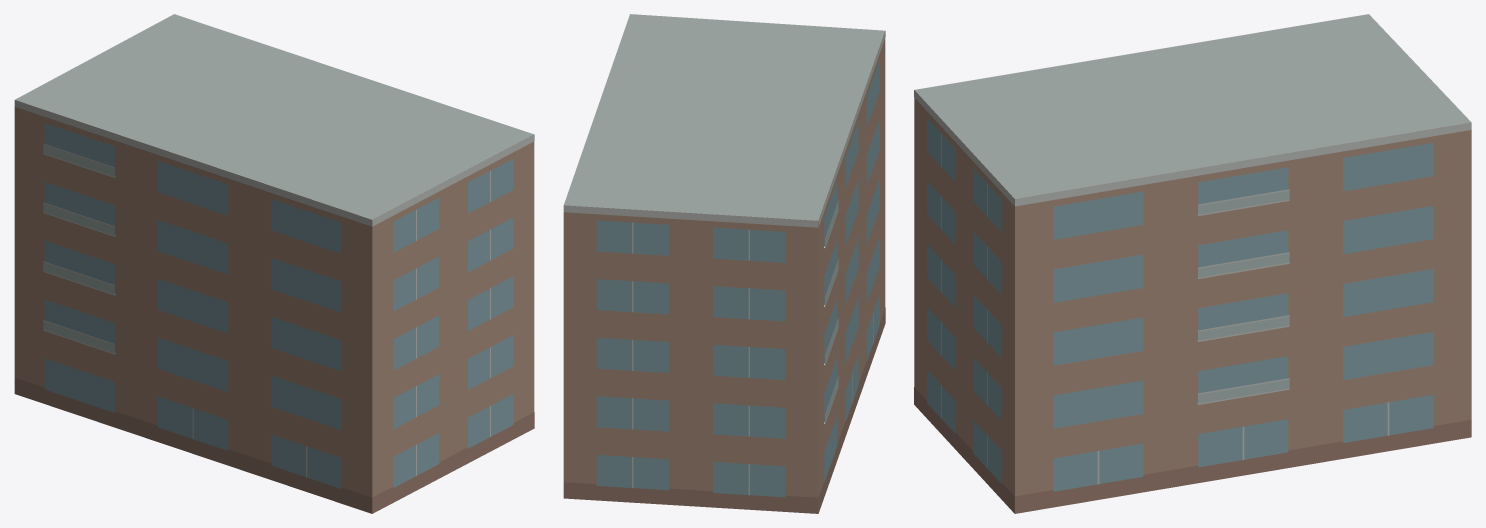
Rendered from survey-upis-32881683.glb.
The picture shows the model from 3 angles, left to right: view 1: azimuth 30°, elevation 25°; view 2: azimuth 150°, elevation 25°; view 3: azimuth 270°, elevation 25°; orthographic projection. The views are drawn at different scales.
Visible parts, largest first — view 1: survey-upis-32881683.tmp; view 2: survey-upis-32881683.tmp; view 3: survey-upis-32881683.tmp.
Part boxes in pixels (<box>): survey-upis-32881683.tmp: <box>14,14,534,513</box>; survey-upis-32881683.tmp: <box>563,14,885,513</box>; survey-upis-32881683.tmp: <box>914,14,1471,513</box>.
Bounding box in the file's own units: 13.13 × 10.4 × 16.7.
